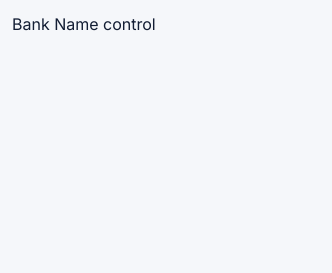
Test case: PaymentForm locked-field tooltips › shows the unlock explanation for the {"field":"Bank Name","note":"Bank/account changes are blocked while the trigger rejection stands — the row itself can't be
Focus the element showing "Bank Name control" at (84, 24), box [12,12,156,36]
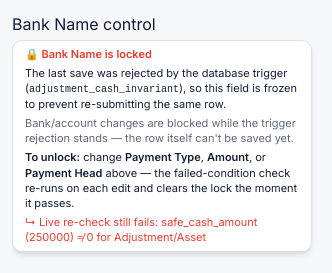
Result: the text "adjustment_cash_invariant" is shown at [29,84,179,95]
Result: the text "rejected by the database trigger" is shown at [25,66,287,95]
Result: the text "Bank/account changes are blocked while the trigger rejection stands — the row itself can't be saved yet." is shown at [25,116,296,145]
